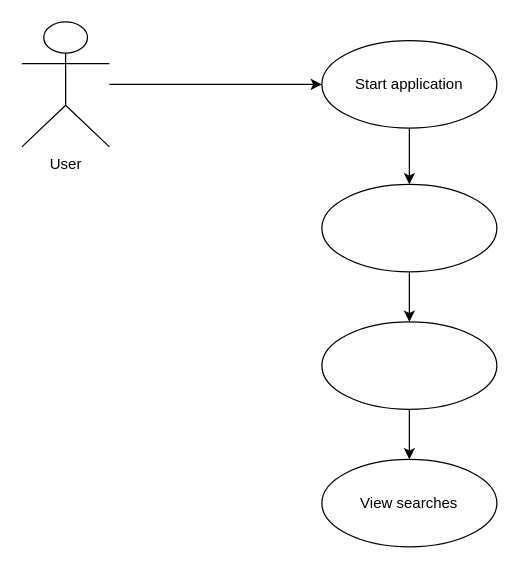
Some shapes in this 519 by 569 pixel diagram are drawn without their labels. The shapes that lost their labels are listed below. From the top down, each one's centre as x and y in pixels, then its label:
At (x=409, y=227): "Search verses by text".
At (x=409, y=365): "Search by reference".
